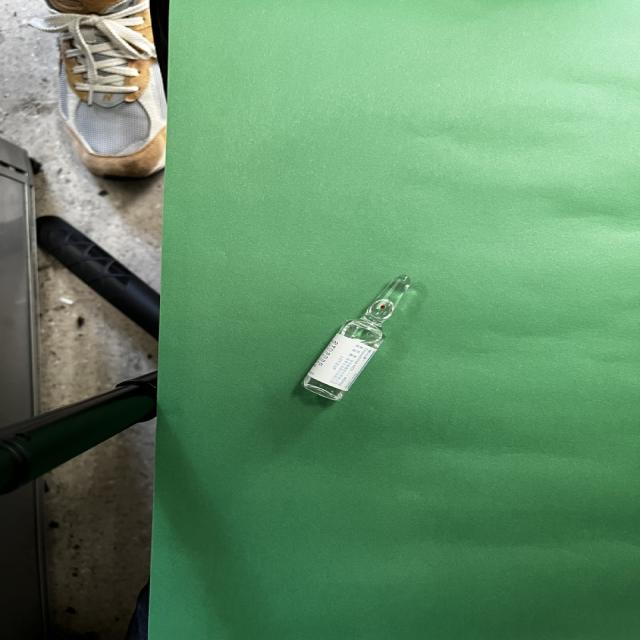Ampoules: (302, 276, 410, 400)
